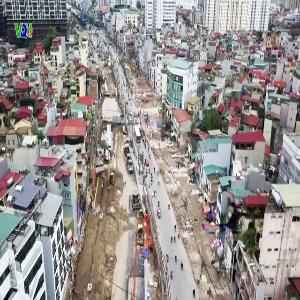drone: (203, 191, 254, 242)
